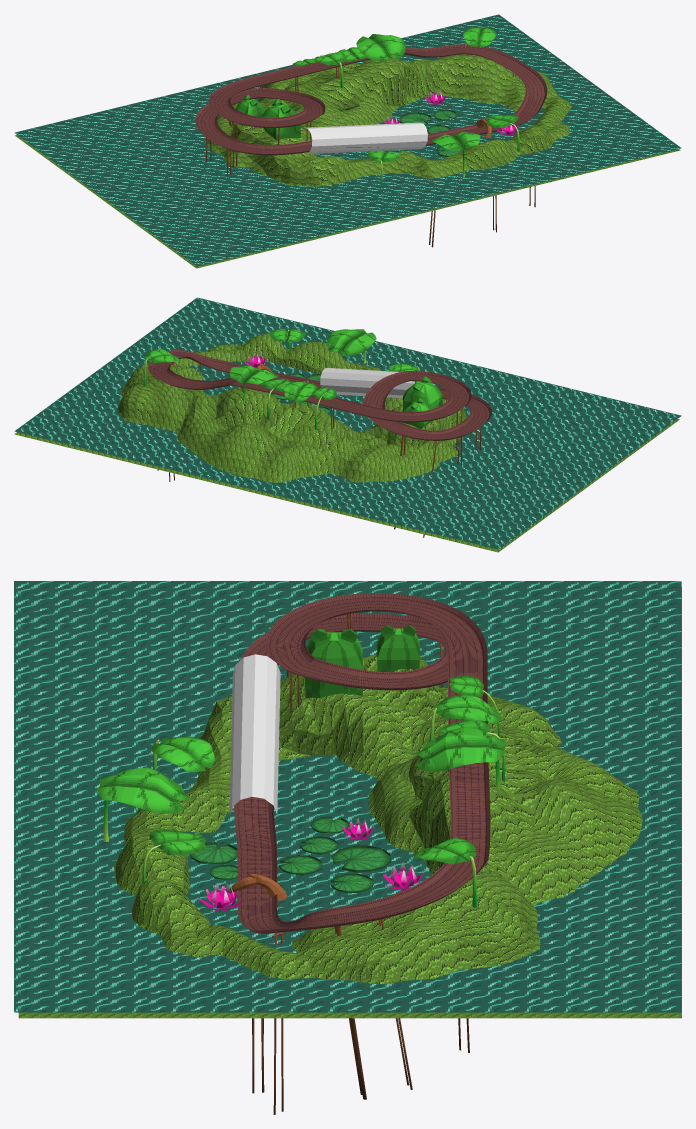
Rendered from SwampTrack.glb.
3 renders of one model, top to bottom at view 1: azimuth 30°, elevation 25°; view 2: azimuth 150°, elevation 25°; view 3: azimuth 270°, elevation 25°, orthographic. The views are drawn at different scales.
Visible parts, largest first — view 1: Plane.007, Plane.006, mainTrack -col, Cylinder.001, Plane.002, Columns, Cube.005, Plane.008, Plane.010, PlantShaft1.001, Cube.004; view 2: Plane.007, Plane.006, mainTrack -col, Cylinder.001, Plane.008, Cube.005, Plane.002, Columns, Plane.005, PlantShaft1.001; view 3: Plane.007, Plane.006, mainTrack -col, Cylinder.001, Plane.008, Plane.002, Columns, Cube.005, Cube.004, Plane.012, Plane.005, PlantShaft1.001 (+2 smaller).
Boxes of the visible parts, x1,y1,x2,y2 form: Plane.007: [14, 14, 681, 266]; Plane.006: [15, 54, 680, 268]; mainTrack -col: [195, 44, 547, 155]; Cylinder.001: [304, 122, 427, 154]; Plane.002: [356, 34, 405, 61]; Columns: [206, 54, 535, 247]; Cube.005: [261, 98, 300, 140]; Plane.008: [431, 132, 480, 150]; Plane.010: [463, 26, 496, 47]; PlantShaft1.001: [486, 114, 519, 151]; Cube.004: [235, 94, 265, 116]; Plane.007: [14, 297, 681, 549]; Plane.006: [14, 333, 679, 552]; mainTrack -col: [148, 350, 492, 440]; Cylinder.001: [320, 367, 434, 398]; Plane.008: [326, 329, 376, 356]; Cube.005: [402, 376, 442, 411]; Plane.002: [230, 366, 279, 384]; Columns: [157, 362, 481, 537]; Plane.005: [284, 381, 317, 401]; PlantShaft1.001: [269, 329, 305, 349]; Plane.007: [14, 581, 681, 1012]; Plane.006: [18, 587, 681, 1018]; mainTrack -col: [234, 593, 490, 933]; Cylinder.001: [229, 654, 280, 815]; Plane.008: [96, 767, 188, 813]; Plane.002: [416, 727, 505, 771]; Columns: [252, 613, 469, 1114]; Cube.005: [305, 629, 363, 697]; Cube.004: [377, 625, 419, 672]; Plane.012: [152, 736, 215, 772]; Plane.005: [434, 695, 501, 723]; PlantShaft1.001: [142, 829, 205, 883].
Size of the model in its own units: 1111 by 359 by 726.
Materials: 9 (8 with a texture image).
